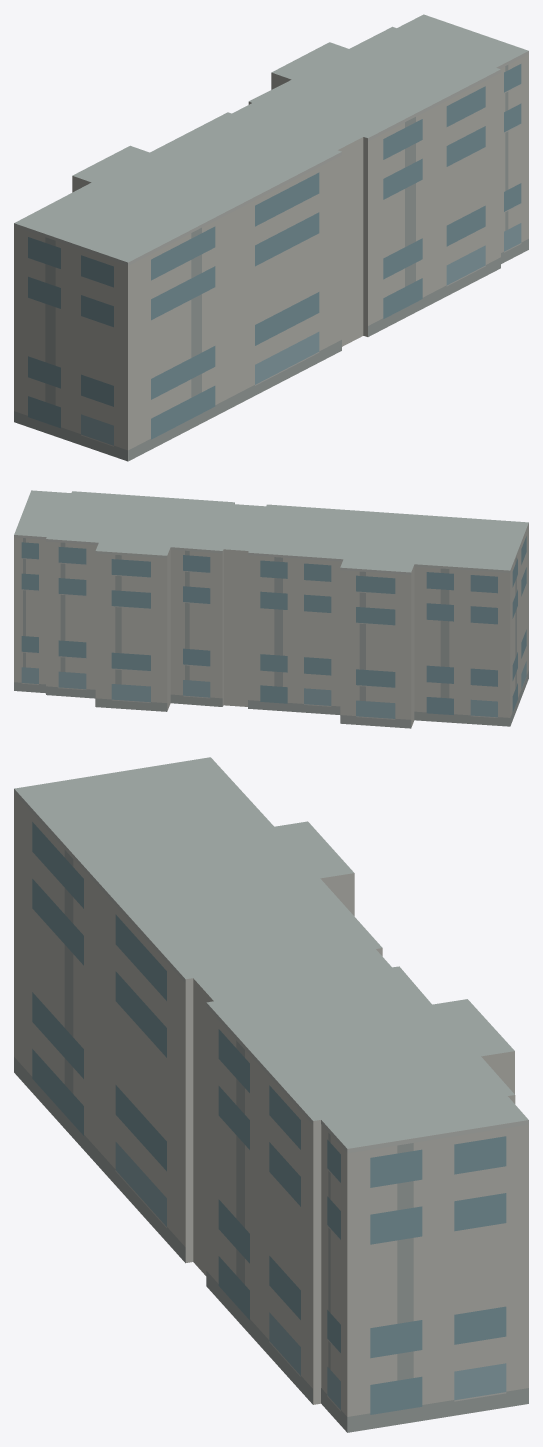
File: survey-upis-32861381.glb
3 renders of one model, top to bottom at view 1: azimuth 30°, elevation 25°; view 2: azimuth 150°, elevation 25°; view 3: azimuth 270°, elevation 25°, orthographic. The views are drawn at different scales.
Parts seen in each view (by area): view 1: survey-upis-32861381.tmp; view 2: survey-upis-32861381.tmp; view 3: survey-upis-32861381.tmp.
Part boxes in pixels (<box>): survey-upis-32861381.tmp: <box>14,14,528,461</box>; survey-upis-32861381.tmp: <box>14,490,528,728</box>; survey-upis-32861381.tmp: <box>14,757,528,1432</box>.
Size of the model in its own units: 45.15 by 15.25 by 25.08.
